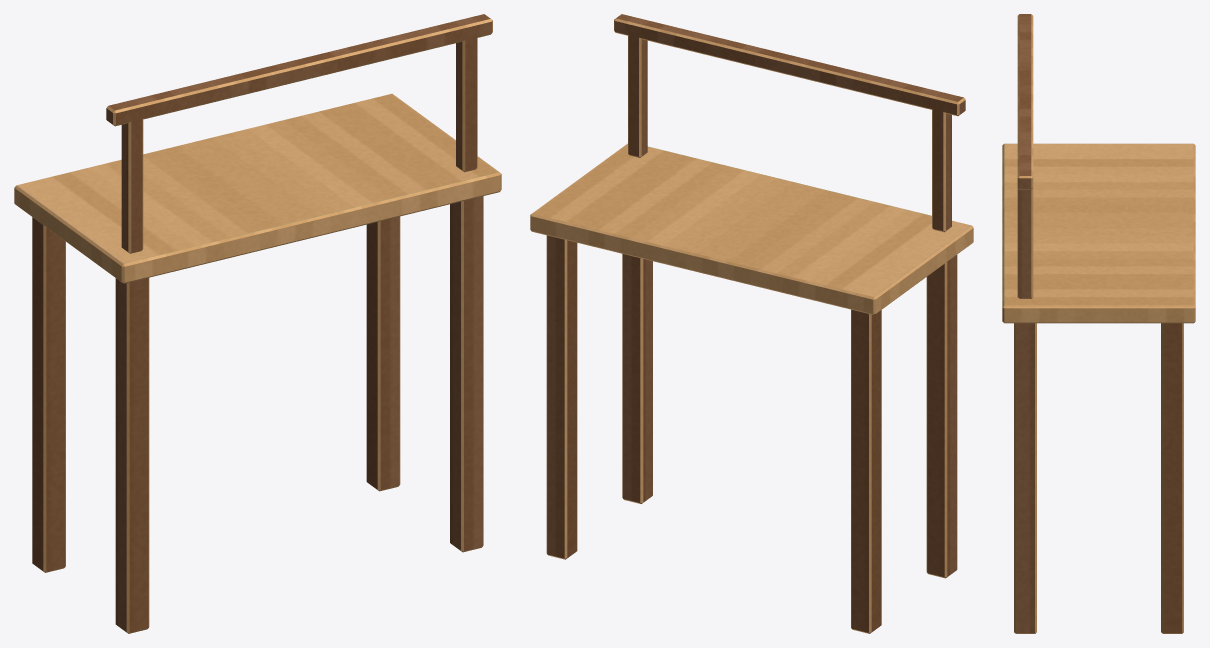
Rendered from sm_rampart_walkway.glb.
3 renders of one model, left to right at view 1: azimuth 30°, elevation 25°; view 2: azimuth 150°, elevation 25°; view 3: azimuth 270°, elevation 25°, orthographic. The views are drawn at different scales.
Visible parts, largest first — view 1: sm_rampart_walkway; view 2: sm_rampart_walkway; view 3: sm_rampart_walkway.
Boxes of the visible parts, bbox=[...] form: sm_rampart_walkway: bbox=[14, 14, 501, 633]; sm_rampart_walkway: bbox=[530, 14, 973, 633]; sm_rampart_walkway: bbox=[1002, 14, 1195, 633].
Size of the model in its own units: 1 by 1.32 by 0.5.
Materials: 1 (1 with a texture image).
